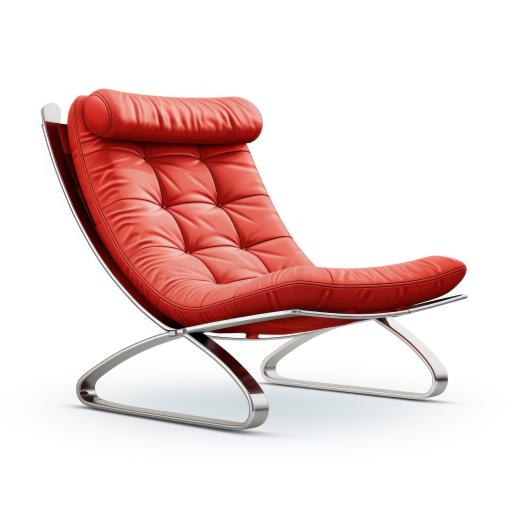chair: (18, 67, 472, 447)
